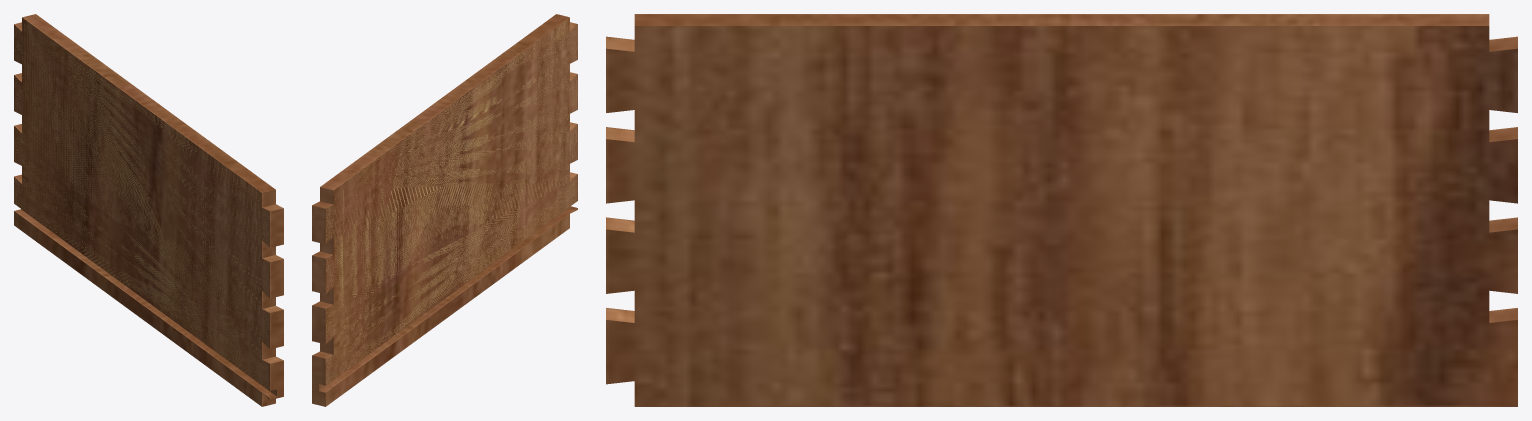
Rendered from original-1174.obj.
3 views of the same model, side by side, from view 1: azimuth 30°, elevation 25°; view 2: azimuth 150°, elevation 25°; view 3: azimuth 270°, elevation 25° (orthographic). The views are drawn at different scales.
Parts seen in each view (by area): view 1: draw_side1/draw_side/mesh305/mesh305-geometry#mesh305-geometry; view 2: draw_side1/draw_side/mesh305/mesh305-geometry#mesh305-geometry; view 3: draw_side1/draw_side/mesh305/mesh305-geometry#mesh305-geometry.
Boxes of the visible parts, x1,y1,x2,y2 form: draw_side1/draw_side/mesh305/mesh305-geometry#mesh305-geometry: [14, 14, 283, 406]; draw_side1/draw_side/mesh305/mesh305-geometry#mesh305-geometry: [312, 14, 577, 406]; draw_side1/draw_side/mesh305/mesh305-geometry#mesh305-geometry: [606, 14, 1517, 406].
Bounding box in the file's own units: 0.0142 × 0.2098 × 0.4552.
